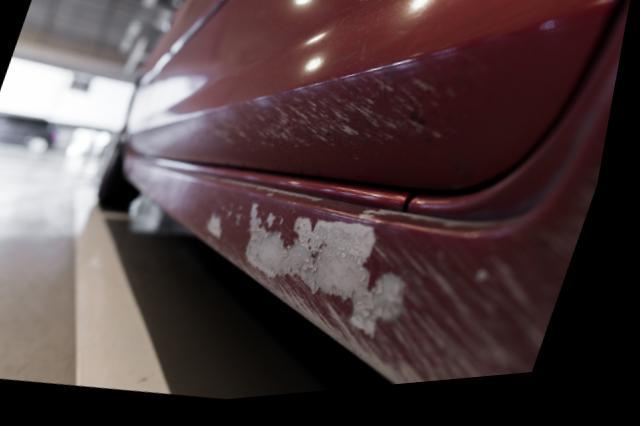scratch: (231, 195, 577, 393), (215, 70, 457, 153)
